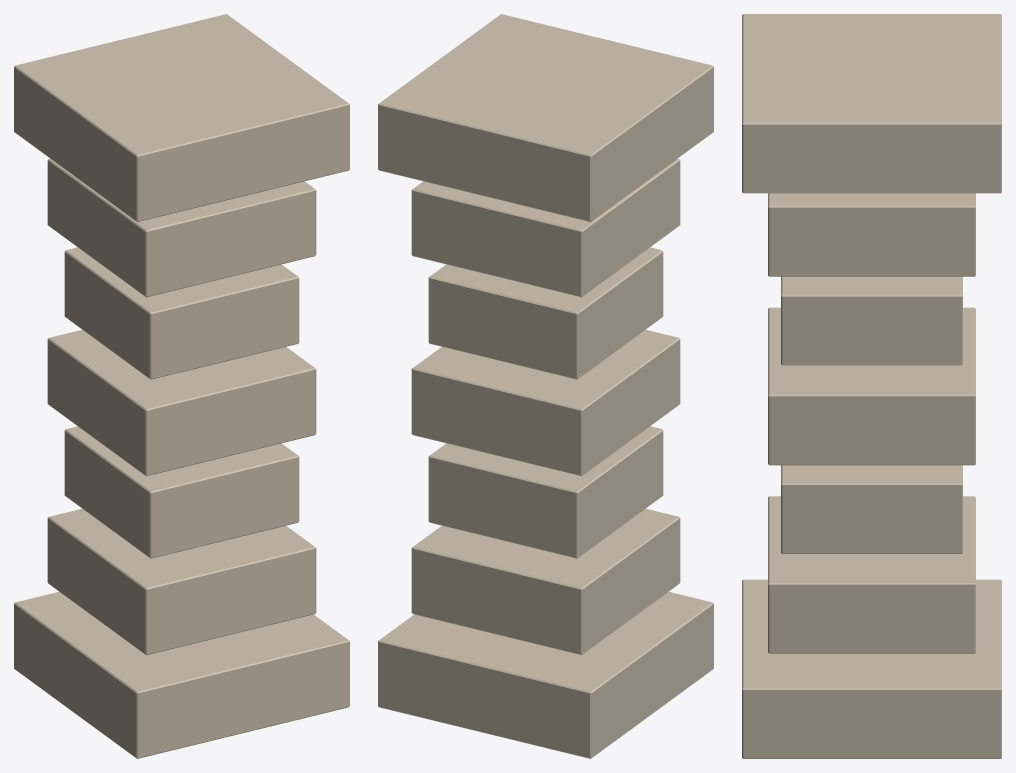
The model's file is Colonne Test2.fbx.
3 renders of one model, left to right at view 1: azimuth 30°, elevation 25°; view 2: azimuth 150°, elevation 25°; view 3: azimuth 270°, elevation 25°, orthographic. The views are drawn at different scales.
Visible parts, largest first — view 1: Colonne_Test; view 2: Colonne_Test; view 3: Colonne_Test.
Boxes of the visible parts, left/top/right/bottom form: Colonne_Test: left=14, top=14, right=349, bottom=758; Colonne_Test: left=378, top=14, right=713, bottom=758; Colonne_Test: left=742, top=14, right=1001, bottom=758.
Size of the model in its own units: 200 by 540 by 200.
